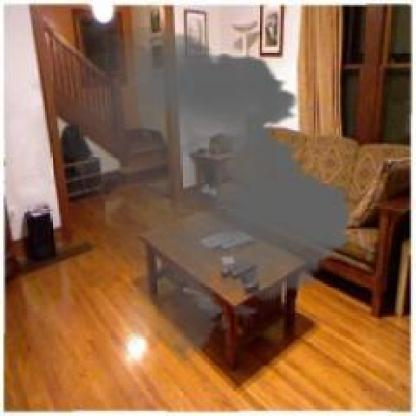Smoke: (21, 26, 364, 364)
